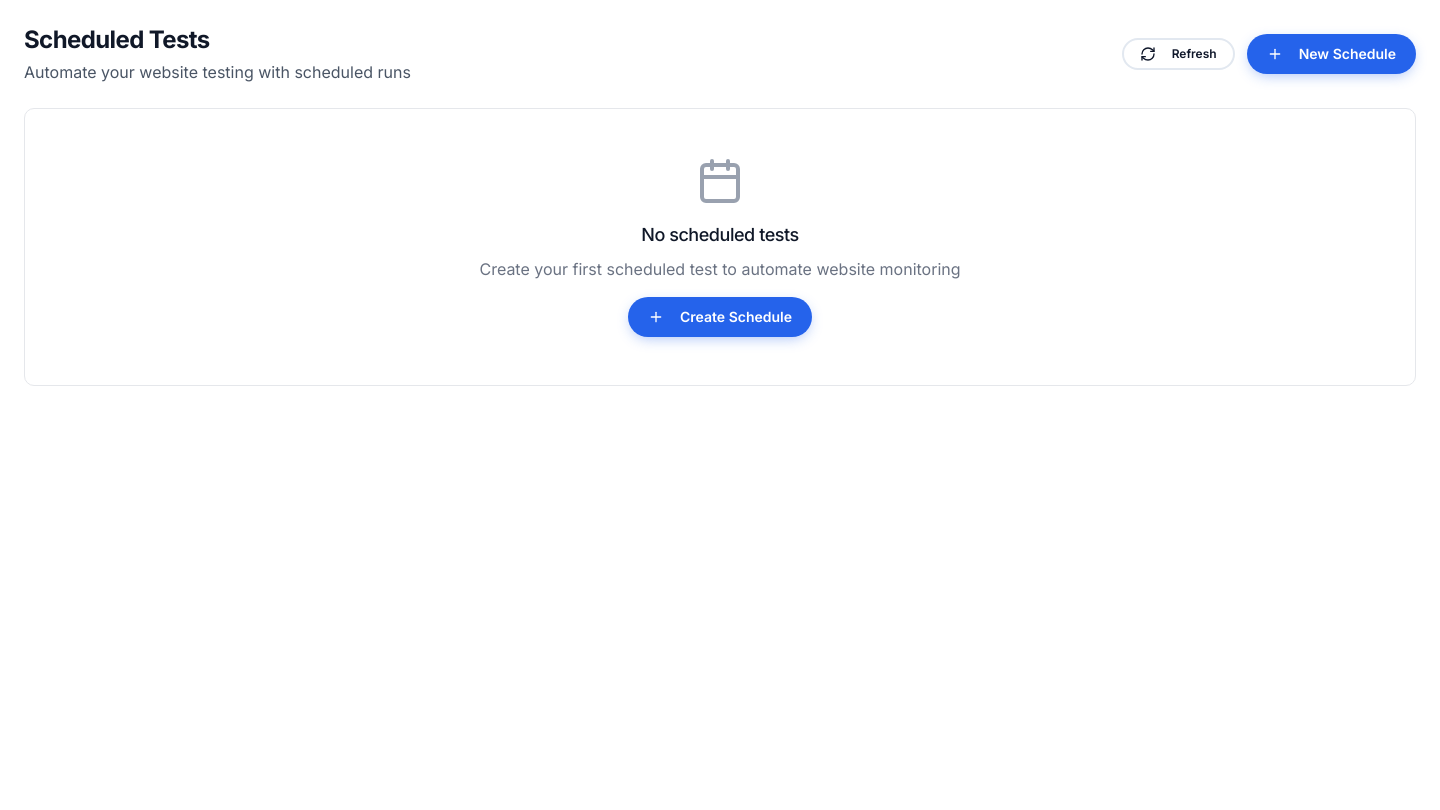
ScheduledPage › should close modal on cancel
The image size is (1440, 810).
Click the button "New Schedule" at (1331, 54), box [1247,34,1416,74]
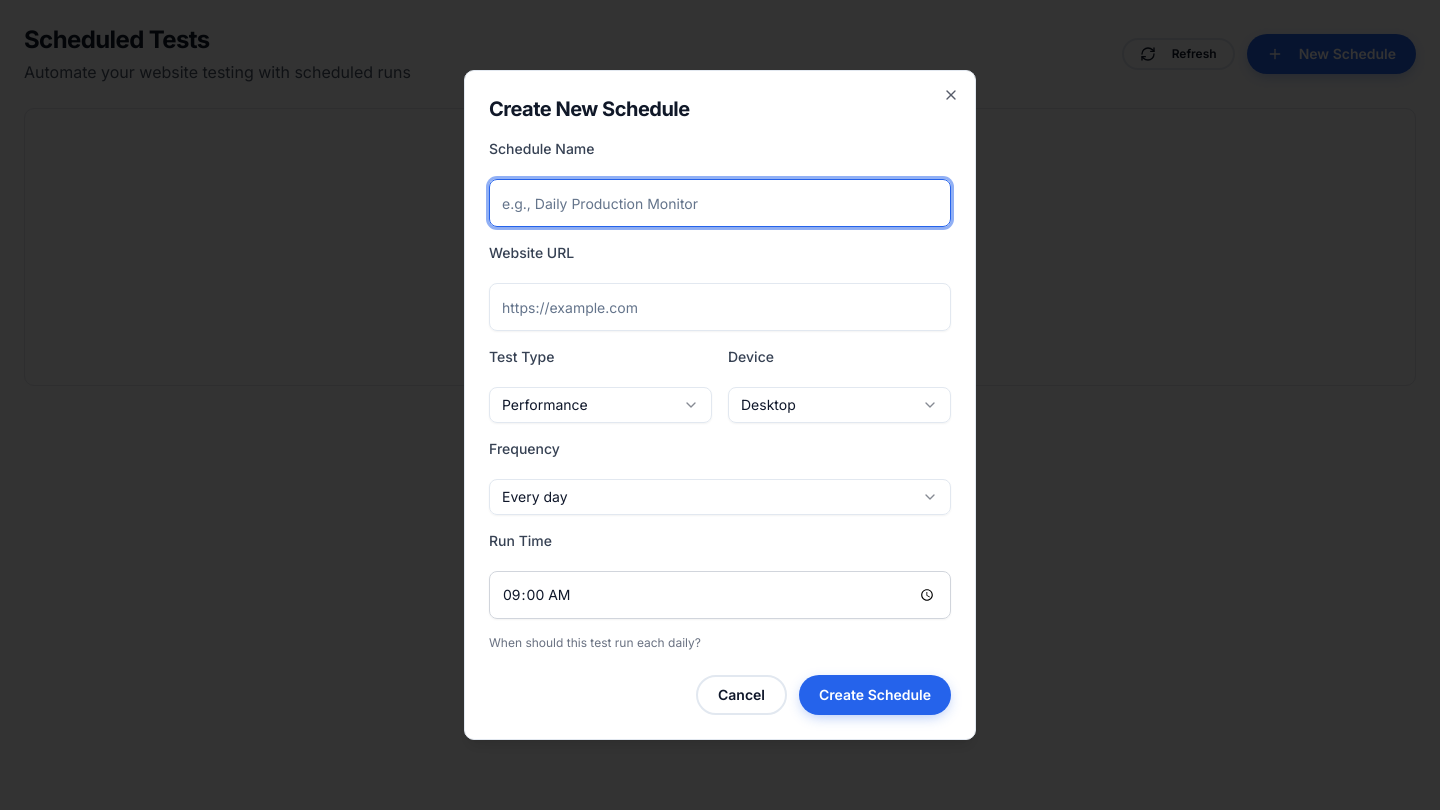
Now the heading "Create New Schedule" is shown, box [489,97,690,121]
Click the button "Cancel" at (742, 695), box [696,675,787,715]
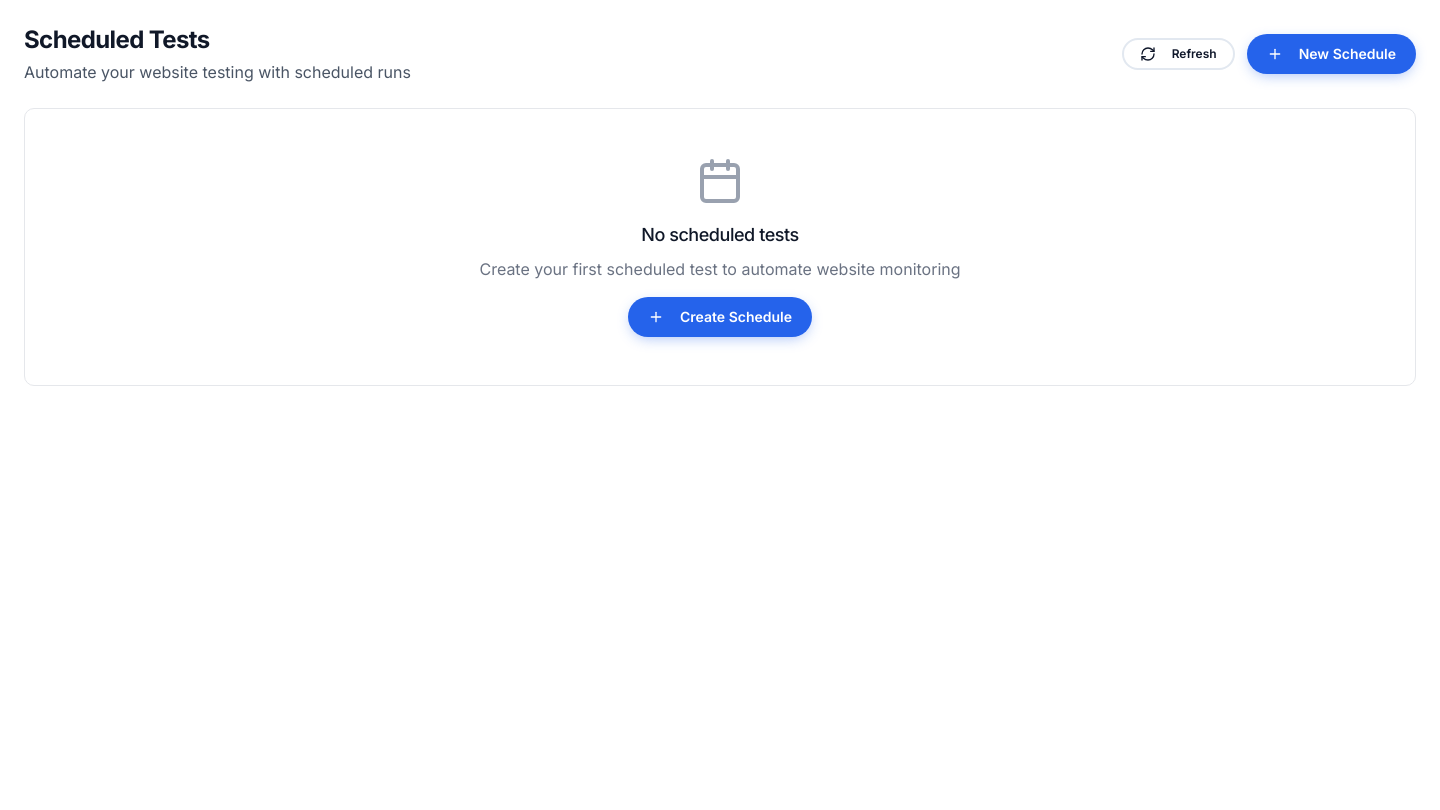
Now the heading "Create New Schedule" is gone
